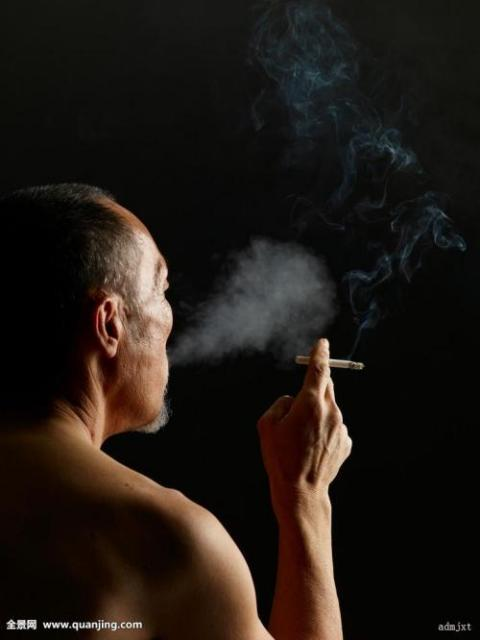Smoking: (295, 352, 369, 376)
